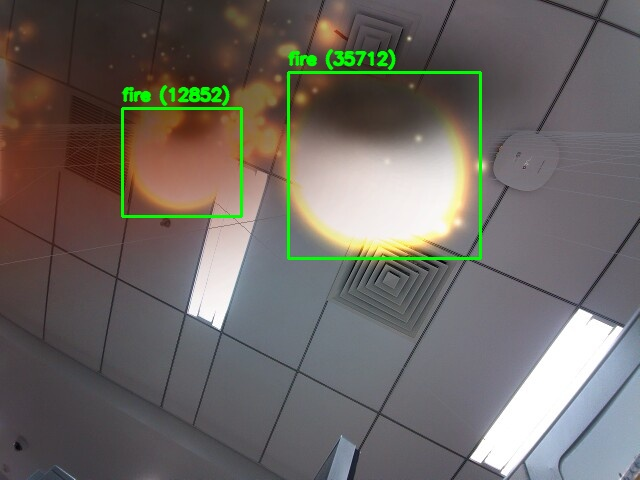fire: (288, 72, 480, 258), (122, 108, 241, 216)
